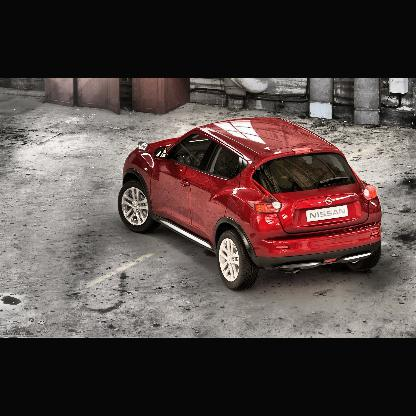Nissan Juke Hatchback 2012: (118, 118, 387, 292)
